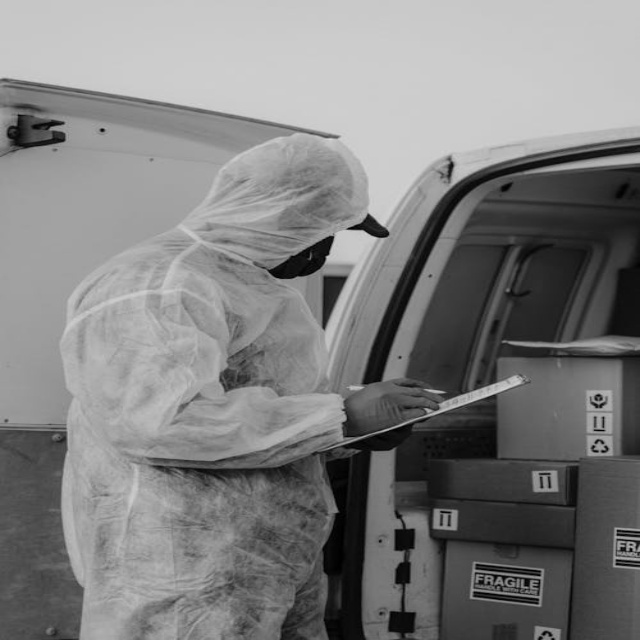Guantes: (335, 371, 448, 442)
Mascara: (266, 235, 332, 280)
